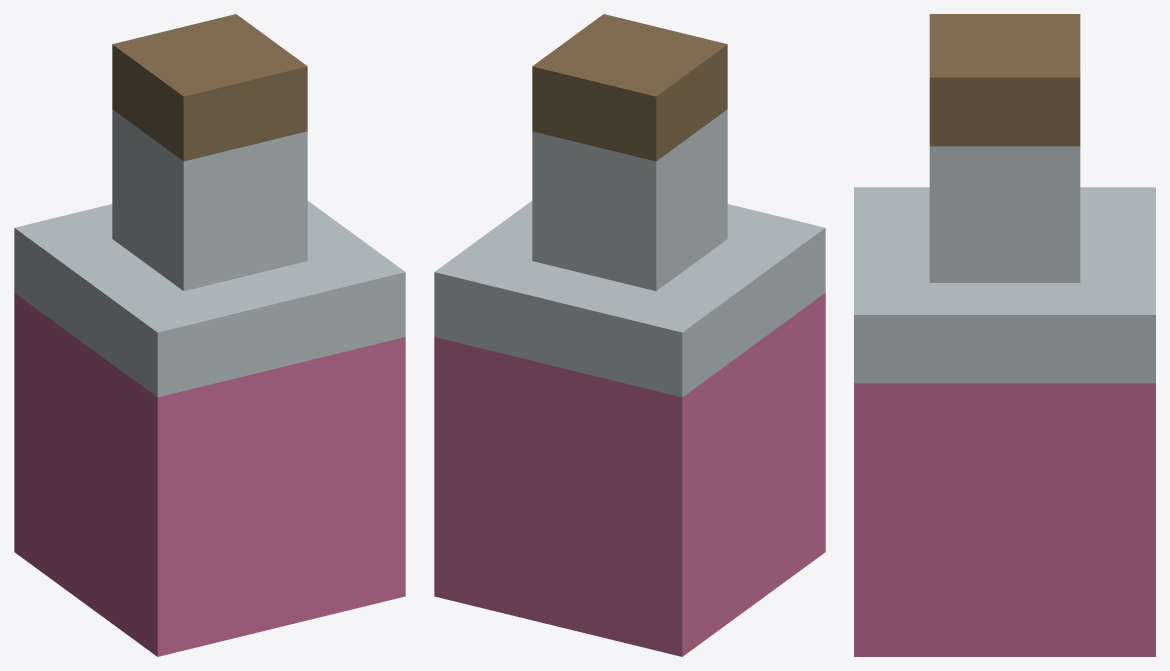
The model's file is gran_elixir_vitalidad_01.glb.
3 renders of one model, left to right at view 1: azimuth 30°, elevation 25°; view 2: azimuth 150°, elevation 25°; view 3: azimuth 270°, elevation 25°, orthographic. The views are drawn at different scales.
Visible parts, largest first — view 1: gran_elixir_vitalidad; view 2: gran_elixir_vitalidad; view 3: gran_elixir_vitalidad.
Part boxes in pixels (x1,y1,x2,y2): gran_elixir_vitalidad: (14, 14, 405, 656); gran_elixir_vitalidad: (434, 14, 825, 656); gran_elixir_vitalidad: (854, 14, 1155, 656).
Size of the model in its own units: 0.3333 by 0.6667 by 0.3333.
